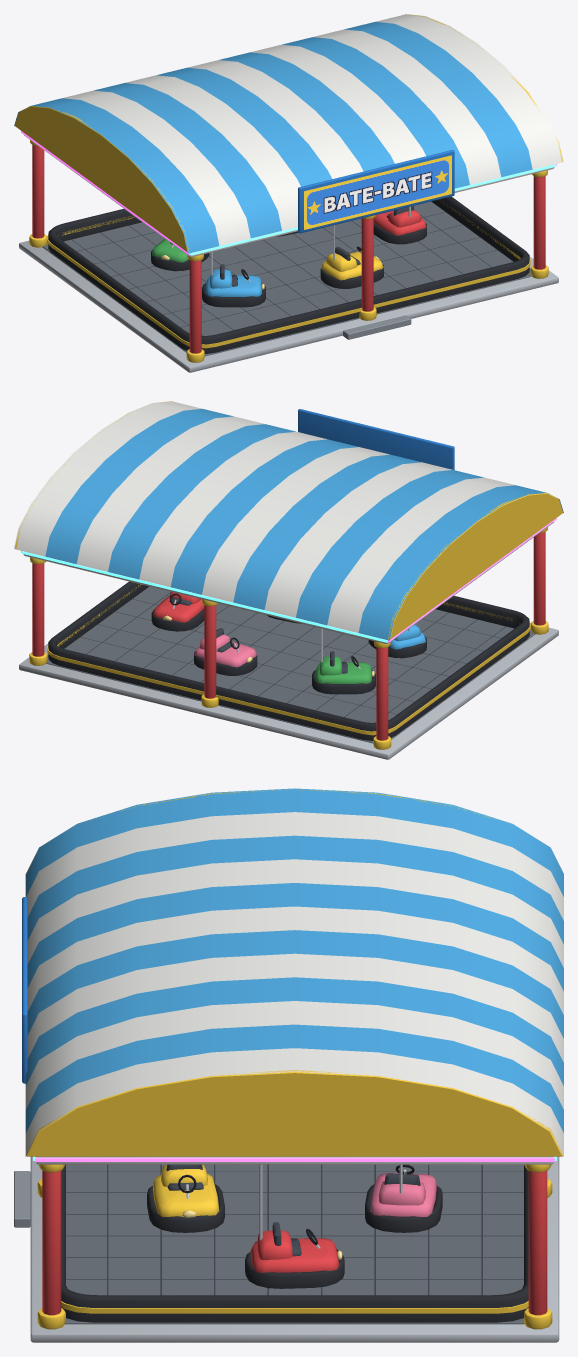
The model's file is carrinhos_bate_bate.glb.
3 renders of one model, top to bottom at view 1: azimuth 30°, elevation 25°; view 2: azimuth 150°, elevation 25°; view 3: azimuth 270°, elevation 25°, orthographic. The views are drawn at different scales.
Parts seen in each view (by area): view 1: carrinhos_bate_bate, carrinho_3, carrinho_2, carrinho_1, carrinho_4; view 2: carrinhos_bate_bate, carrinho_4, carrinho_5, carrinho_1, carrinho_3; view 3: carrinhos_bate_bate, carrinho_1, carrinho_2, carrinho_5.
Part boxes in pixels (bbox=[...]): carrinhos_bate_bate: bbox=[14, 14, 563, 372]; carrinho_3: bbox=[202, 252, 265, 307]; carrinho_2: bbox=[320, 225, 383, 288]; carrinho_1: bbox=[373, 206, 426, 244]; carrinho_4: bbox=[151, 239, 209, 271]; carrinhos_bate_bate: bbox=[14, 401, 563, 759]; carrinho_4: bbox=[312, 628, 375, 694]; carrinho_5: bbox=[194, 628, 257, 675]; carrinho_1: bbox=[151, 592, 204, 631]; carrinho_3: bbox=[368, 624, 426, 658]; carrinhos_bate_bate: bbox=[14, 788, 563, 1342]; carrinho_1: bbox=[245, 1164, 344, 1288]; carrinho_2: bbox=[147, 1164, 224, 1232]; carrinho_5: bbox=[365, 1164, 442, 1232].
Bounding box in the file's own units: 14.2 × 6.4 × 11.65.
5 materials, 2 textured.
